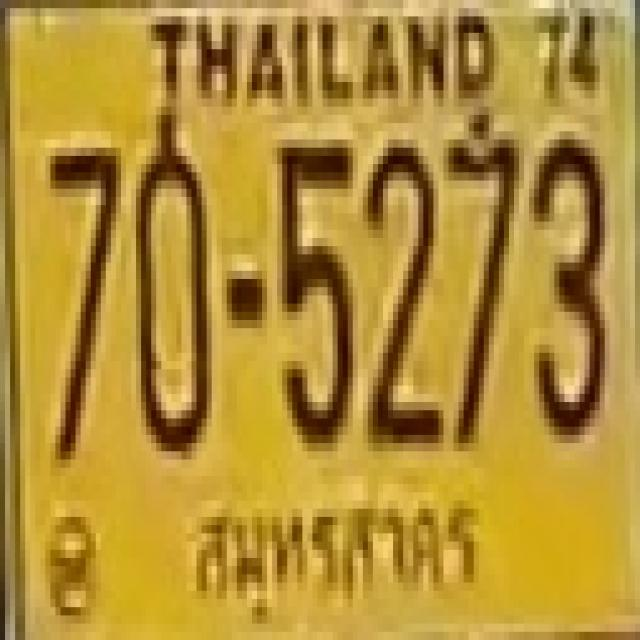0: (134, 127, 209, 447)
2: (363, 140, 433, 443)
3: (529, 131, 605, 435)
5: (275, 135, 350, 439)
7: (45, 144, 116, 456), (446, 131, 517, 443)
SKN: (188, 487, 490, 631)
